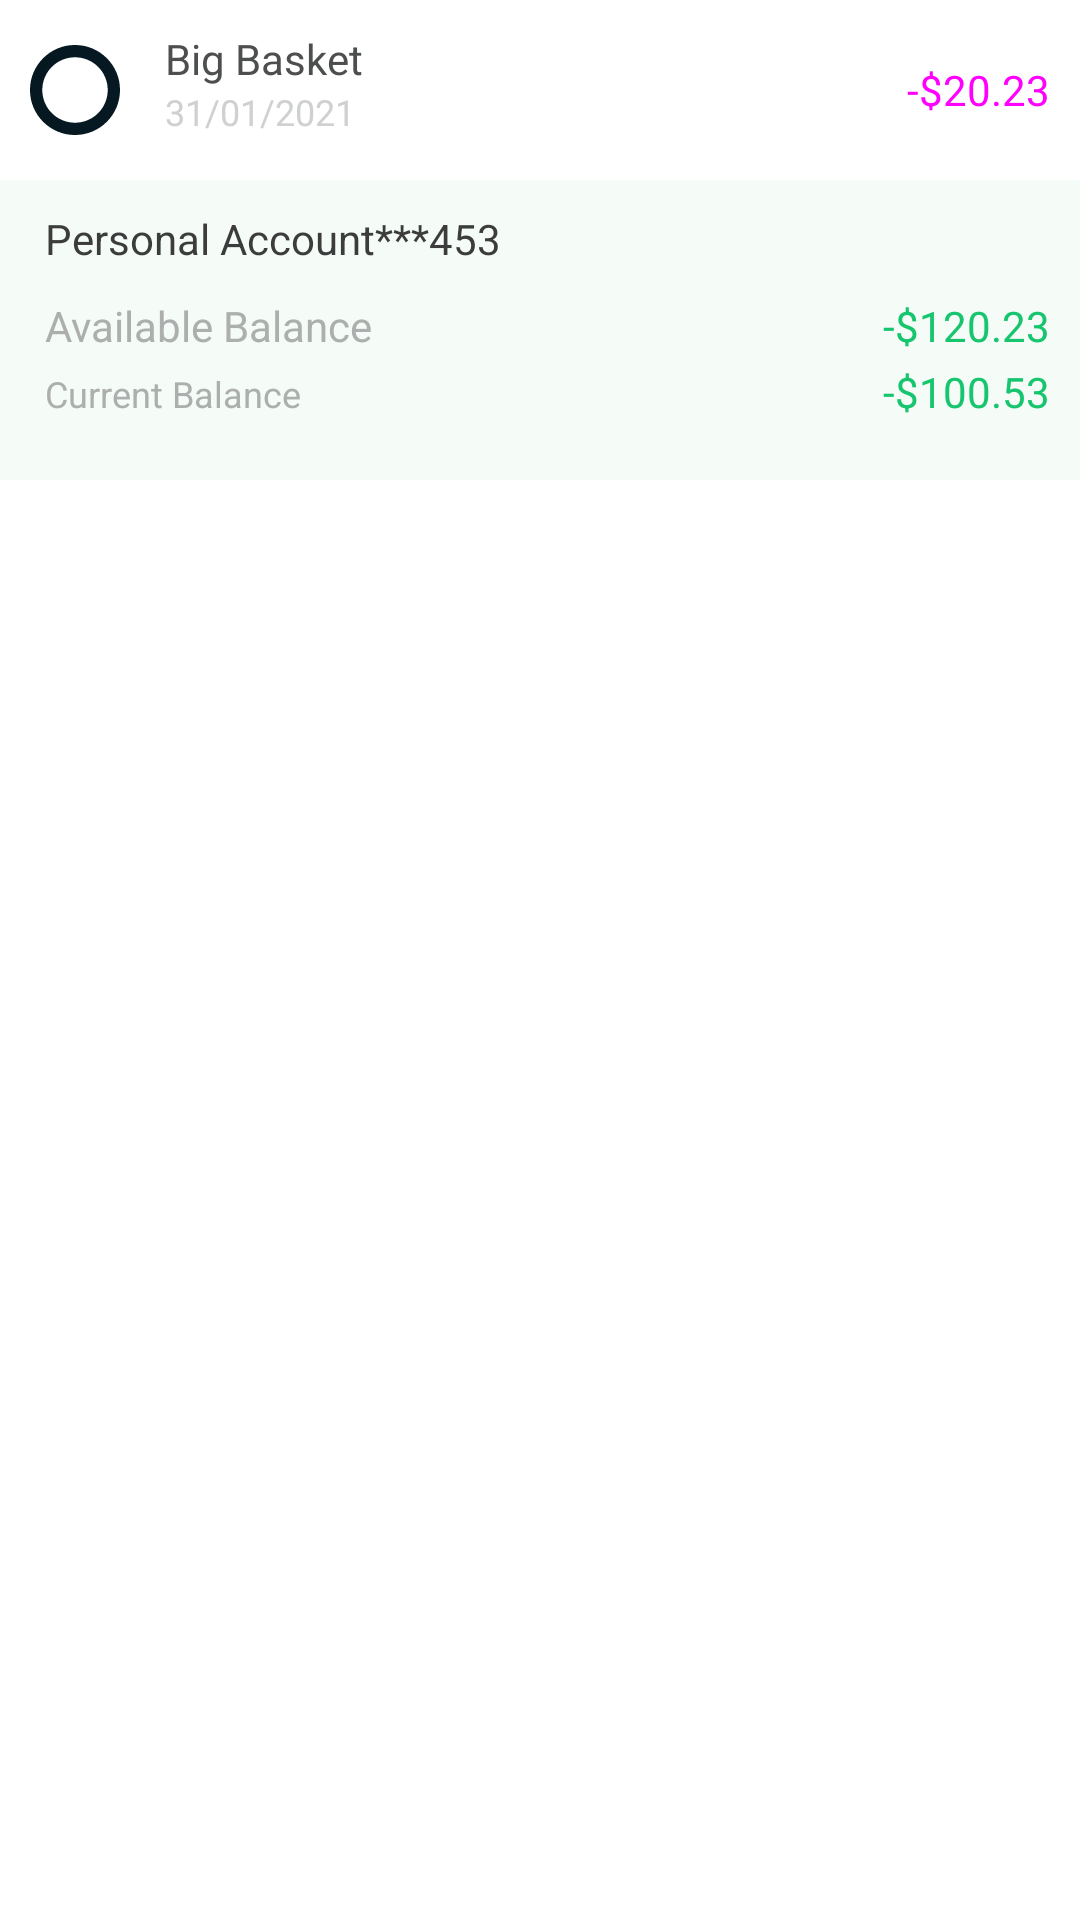

Point at icon controls on the screen. Image size 1080 × 1920, points as point (x, y).
circumference: point (75, 90)
